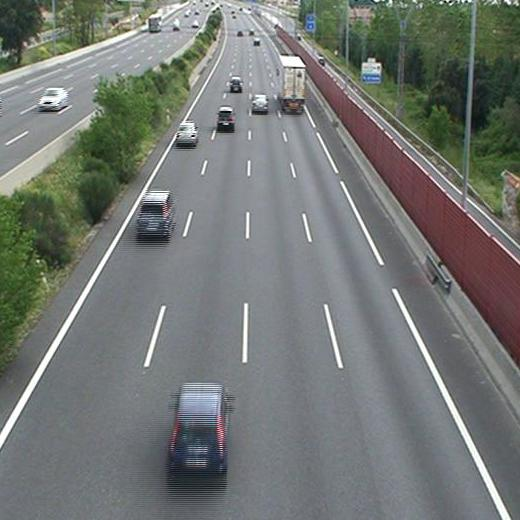car: (169, 385, 226, 469), (137, 192, 174, 233), (175, 124, 197, 142), (217, 107, 235, 127), (252, 95, 269, 111), (230, 77, 242, 91)
truck: (278, 55, 305, 111)
